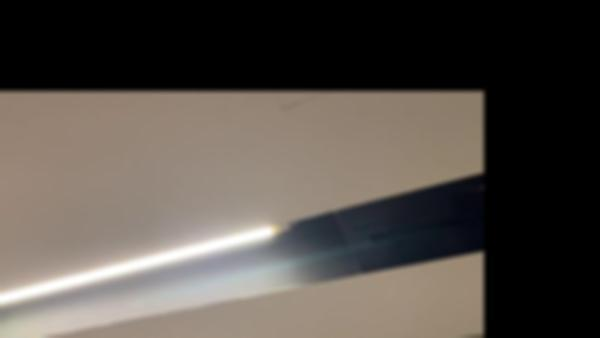light_on: (0, 219, 292, 326)
